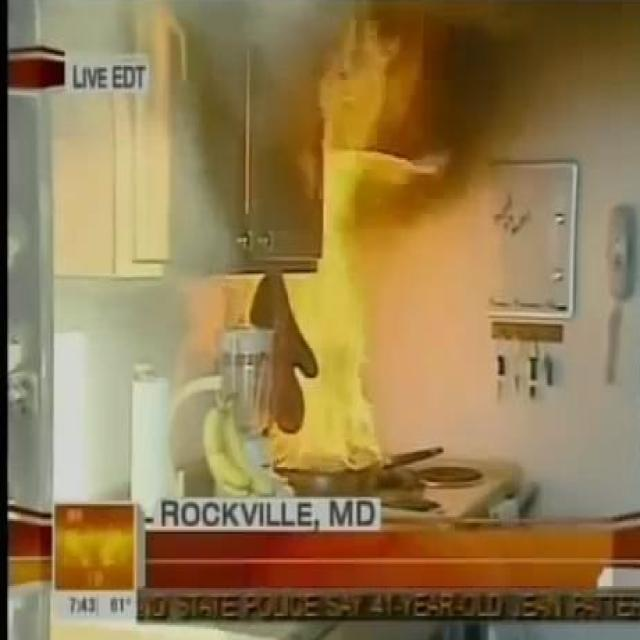fire: (192, 0, 362, 117)
smoke: (264, 23, 396, 479)
